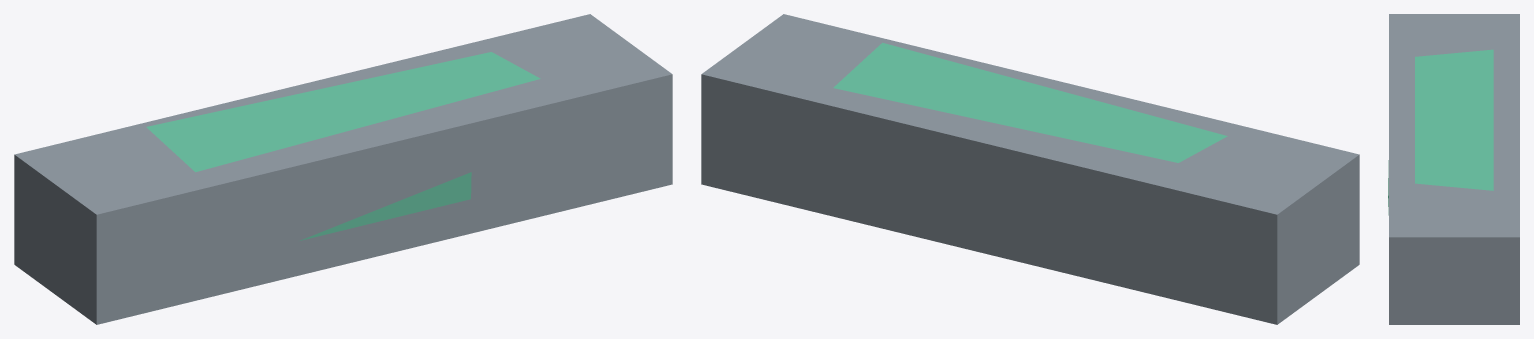
The model's file is CO_SamudraCarrier_LOD1.glb.
3 renders of one model, left to right at view 1: azimuth 30°, elevation 25°; view 2: azimuth 150°, elevation 25°; view 3: azimuth 270°, elevation 25°, orthographic. The views are drawn at different scales.
Parts seen in each view (by area): view 1: EntranceGate; view 2: EntranceGate; view 3: EntranceGate.
Boxes of the visible parts, left/top/right/bottom form: EntranceGate: left=14, top=14, right=672, bottom=324; EntranceGate: left=701, top=14, right=1359, bottom=324; EntranceGate: left=1388, top=14, right=1519, bottom=324.
Size of the model in its own units: 2100 by 424 by 523.
